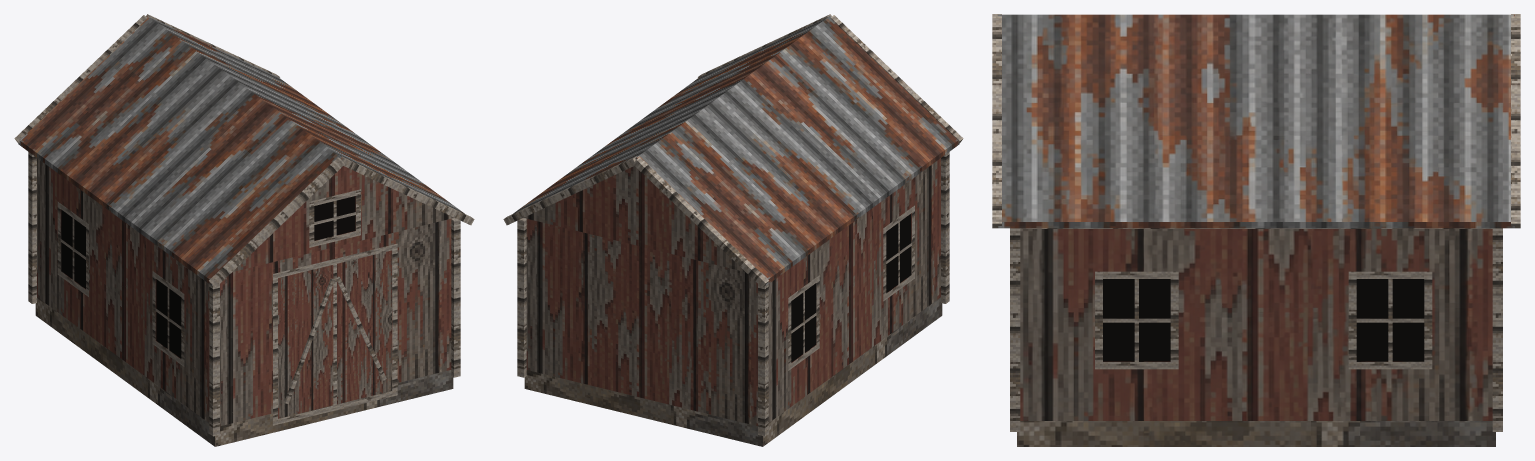
Rendered from Rimessa_02_Rurale.obj.
The picture shows the model from 3 angles, left to right: view 1: azimuth 30°, elevation 25°; view 2: azimuth 150°, elevation 25°; view 3: azimuth 270°, elevation 25°; orthographic projection. The views are drawn at different scales.
Visible parts, largest first — view 1: Rimessa_02_Rurale; view 2: Rimessa_02_Rurale; view 3: Rimessa_02_Rurale.
Part boxes in pixels (left/top/right/bottom): Rimessa_02_Rurale: left=14, top=14, right=474, bottom=446; Rimessa_02_Rurale: left=503, top=14, right=963, bottom=446; Rimessa_02_Rurale: left=992, top=14, right=1520, bottom=446.
Size of the model in its own units: 5.07 by 4.91 by 6.62.
2 materials, 1 textured.
